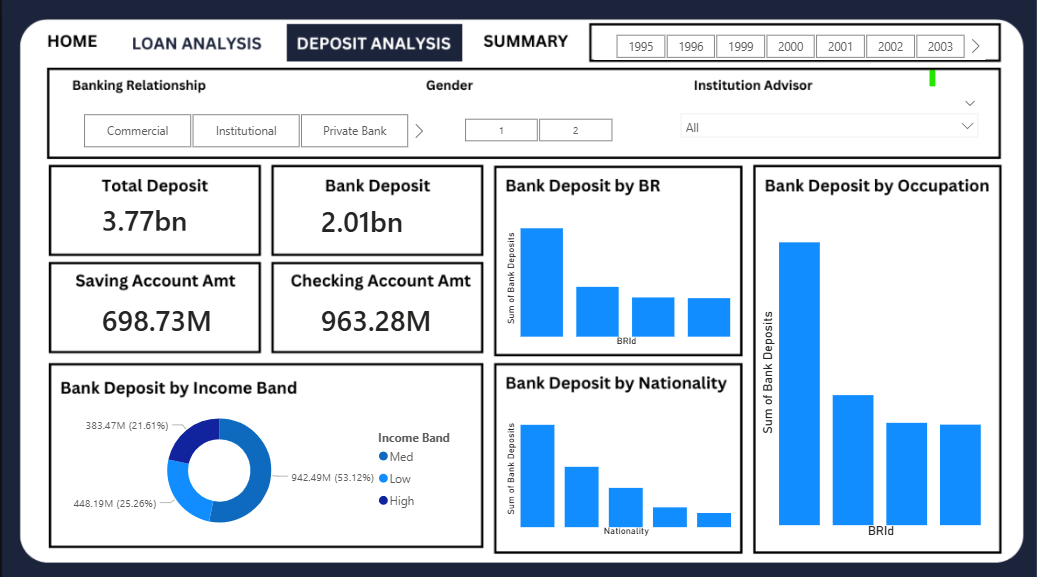

This screenshot's page, from the dashboard's own definition file:
{"tool":"powerbi","page":{"name":"Deposit Analysis","canvas":[1280,720],"ordinal":3},"visuals":[{"type":"cardVisual","fields":{"Data":["banking_case customer.Total Deposit"]},"box":[135.4,245.1,168,63.4],"z":0},{"type":"cardVisual","fields":{"Data":["Sum(banking_case customer.Bank Deposits)"]},"box":[385.7,246.9,168,63.4],"z":1},{"type":"cardVisual","fields":{"Data":["Sum(banking_case customer.Saving Accounts)"]},"box":[135.4,360,193.7,63.4],"z":2},{"type":"cardVisual","fields":{"Data":["Sum(banking_case customer.Checking Accounts)"]},"box":[385.7,360,193.7,63.4],"z":3},{"type":"slicer","fields":{"Values":["banking_case customer.BRId"]},"box":[118.3,150.9,420,51.4],"z":4},{"type":"slicer","fields":{"Values":["banking_case customer.GenderId"]},"box":[553.7,156,217.7,39.4],"z":5},{"type":"slicer","fields":{"Values":["banking_case customer.IAId"]},"box":[816,137.1,360,65.1],"z":6},{"type":"donutChart","fields":{"Category":["banking_case customer.Income Band"],"Y":["Sum(banking_case customer.Bank Loans)"]},"box":[112.1,483.2,473.7,162.6],"z":7},{"type":"clusteredColumnChart","fields":{"Category":["banking_case customer.BRId"],"Y":["Sum(banking_case customer.Bank Deposits)"]},"box":[620.6,264,269.1,162.9],"z":8},{"type":"clusteredColumnChart","fields":{"Category":["banking_case customer.Nationality"],"Y":["Sum(banking_case customer.Bank Deposits)"]},"box":[620.6,481.7,269.1,162.9],"z":9},{"type":"clusteredColumnChart","fields":{"Category":["banking_case customer.BRId"],"Y":["Sum(banking_case customer.Bank Deposits)"]},"box":[912,264,264,382.3],"z":10},{"type":"slicer","fields":{"Values":["banking_case customer.Year of Joining"]},"box":[726.9,60,447.4,36],"z":11}]}

Visuals, with their boxes in screenshot pixels (x1, y1, x2, y2), scaled from the page's 1280x720 canvas onto the 1038x577 screenshot:
cardVisual - banking_case customer.Total Deposit: 110:196:246:247
cardVisual - Sum(banking_case customer.Bank Deposits): 313:198:449:249
cardVisual - Sum(banking_case customer.Saving Accounts): 110:288:267:339
cardVisual - Sum(banking_case customer.Checking Accounts): 313:288:470:339
slicer - banking_case customer.BRId: 96:121:437:162
slicer - banking_case customer.GenderId: 449:125:626:157
slicer - banking_case customer.IAId: 662:110:954:162
donutChart - banking_case customer.Income Band x Sum(banking_case customer.Bank Loans): 91:387:475:518
clusteredColumnChart - banking_case customer.BRId x Sum(banking_case customer.Bank Deposits): 503:212:721:342
clusteredColumnChart - banking_case customer.Nationality x Sum(banking_case customer.Bank Deposits): 503:386:721:517
clusteredColumnChart - banking_case customer.BRId x Sum(banking_case customer.Bank Deposits): 740:212:954:518
slicer - banking_case customer.Year of Joining: 589:48:952:77
